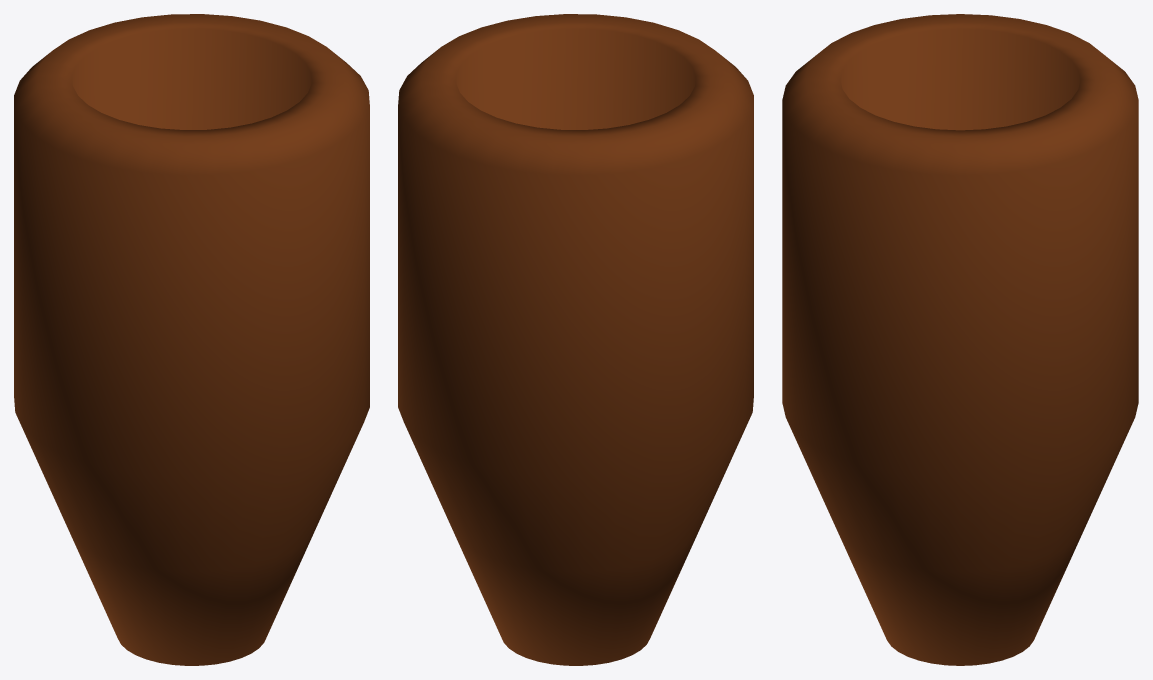
File: torch.fbx
3 renders of one model, left to right at view 1: azimuth 30°, elevation 25°; view 2: azimuth 150°, elevation 25°; view 3: azimuth 270°, elevation 25°, orthographic.
Parts seen in each view (by area): view 1: torch; view 2: torch; view 3: torch.
Part boxes in pixels (x1,y1,x2,y2): torch: (14, 14, 369, 665); torch: (398, 14, 753, 665); torch: (782, 14, 1138, 665).
Bounding box in the file's own units: 200 × 343 × 200.
